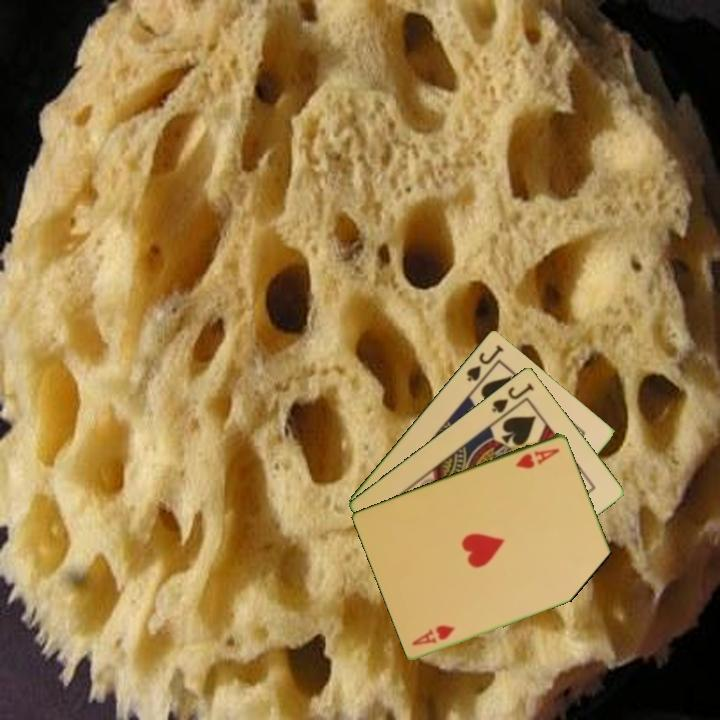Ah: (512, 444, 563, 471), (408, 621, 458, 648)
Js: (463, 341, 507, 384), (488, 379, 537, 416)
